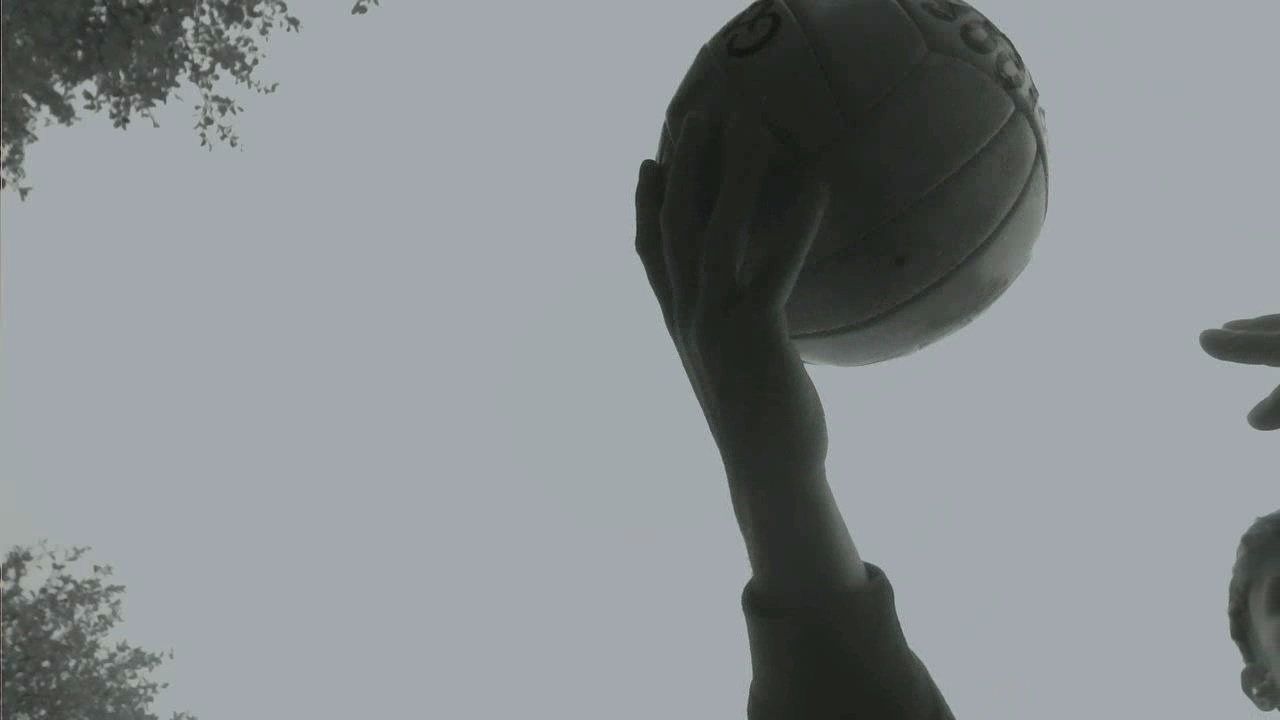Football-Spotter: (659, 0, 1046, 365)
